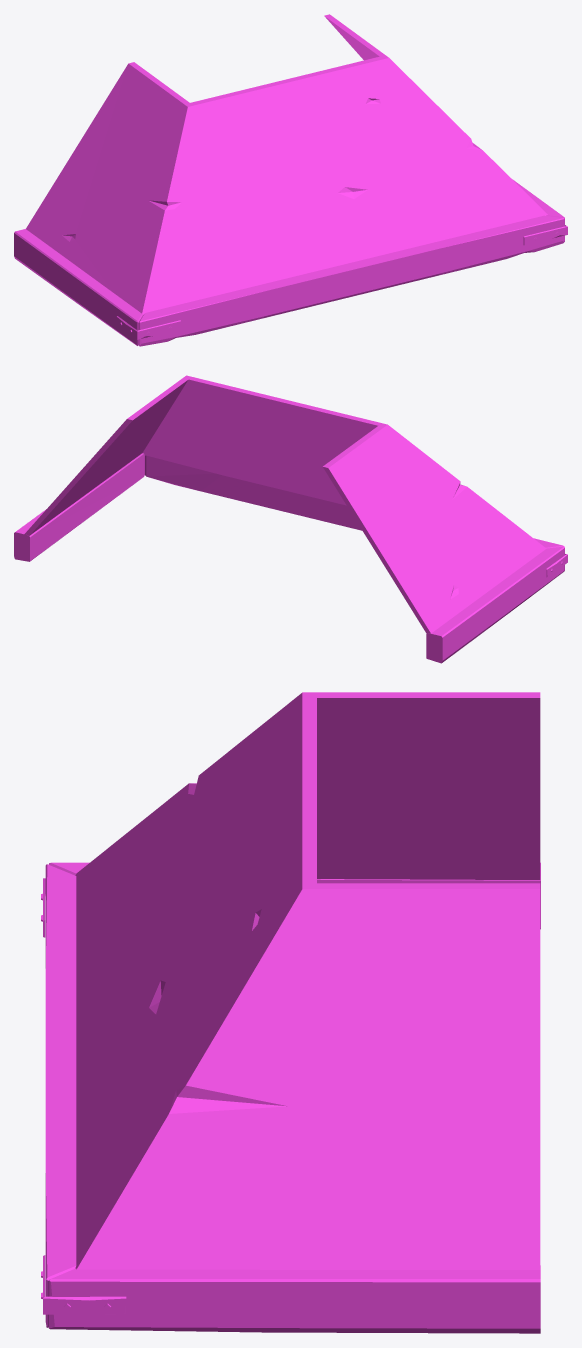
Rendered from SM_Kitchen_SmokeHood_Fantasy.fbx.
3 views of the same model, one above another, from view 1: azimuth 30°, elevation 25°; view 2: azimuth 150°, elevation 25°; view 3: azimuth 270°, elevation 25° (orthographic). The views are drawn at different scales.
Visible parts, largest first — view 1: SM_Kitchen_SmokeHood_Fantasy; view 2: SM_Kitchen_SmokeHood_Fantasy; view 3: SM_Kitchen_SmokeHood_Fantasy.
Boxes of the visible parts, x1,y1,x2,y2 form: SM_Kitchen_SmokeHood_Fantasy: [14, 14, 567, 346]; SM_Kitchen_SmokeHood_Fantasy: [14, 375, 567, 663]; SM_Kitchen_SmokeHood_Fantasy: [41, 692, 540, 1333].
Size of the model in its own units: 2.83 by 1.05 by 1.42.
